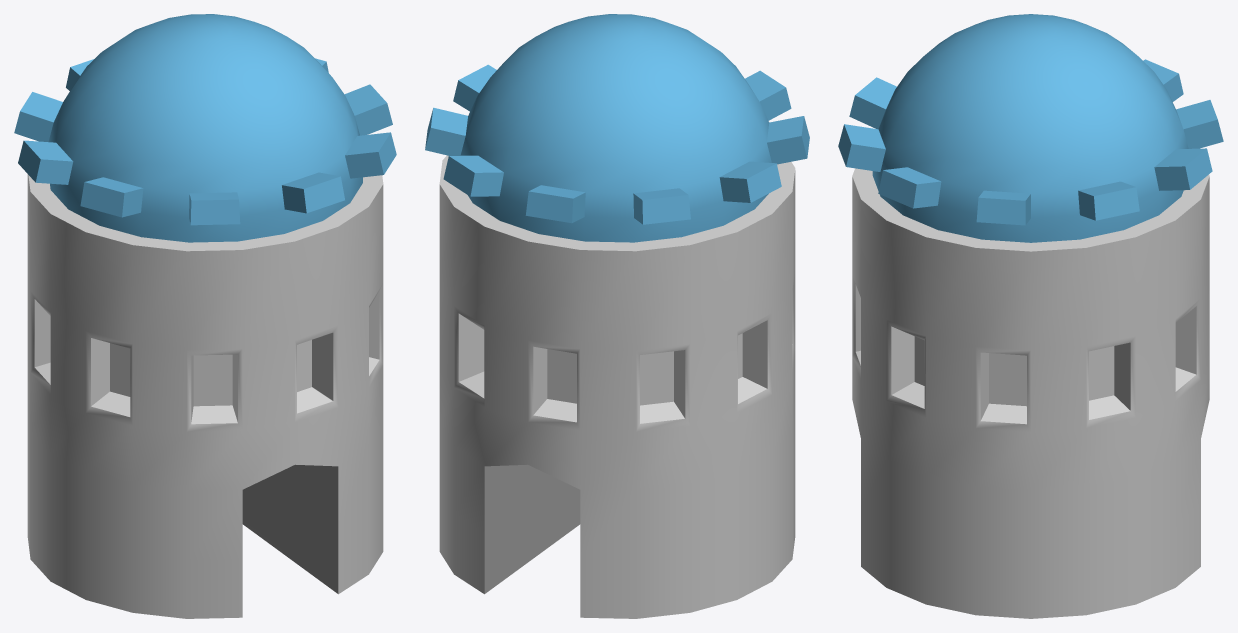
Rendered from Santorini_house2.fbx.
3 renders of one model, left to right at view 1: azimuth 30°, elevation 25°; view 2: azimuth 150°, elevation 25°; view 3: azimuth 270°, elevation 25°, orthographic.
Parts seen in each view (by area): view 1: pPlane6; view 2: pPlane6; view 3: pPlane6.
Part boxes in pixels (<box>): pPlane6: <box>14,14,396,618</box>; pPlane6: <box>425,14,809,618</box>; pPlane6: <box>838,14,1223,618</box>.
Size of the model in its own units: 15.42 by 22.71 by 15.42.
